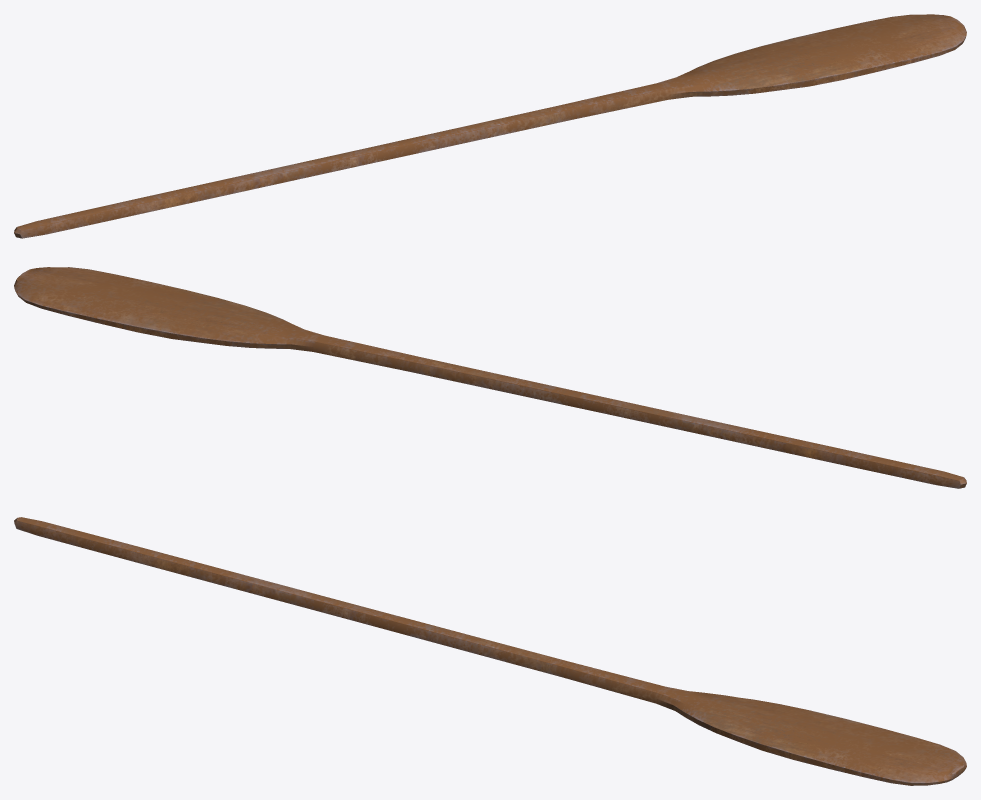
Rendered from SM_Paddle_01.fbx.
3 views of the same model, one above another, from view 1: azimuth 30°, elevation 25°; view 2: azimuth 150°, elevation 25°; view 3: azimuth 330°, elevation 25° (orthographic).
Visible parts, largest first — view 1: SM_Paddle_01; view 2: SM_Paddle_01; view 3: SM_Paddle_01.
Boxes of the visible parts, box(x1,y1,x2,y2) form: SM_Paddle_01: box(14, 14, 966, 238); SM_Paddle_01: box(14, 267, 966, 488); SM_Paddle_01: box(14, 517, 966, 785).
Size of the model in its own units: 218 by 20.14 by 6.83.
